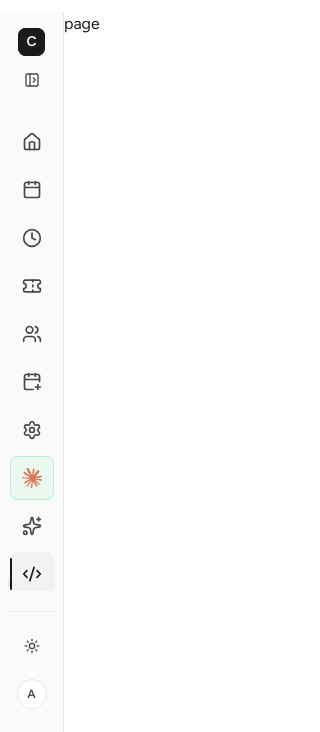
Scenario: AdminShell: the API and webhooks group › is a menu button on the collapsed rail: arrows move, Escape closes and hands focus back
The image size is (320, 732).
Click the button with test id "nav-api". click: (32, 574)
box: [10,552,54,596]
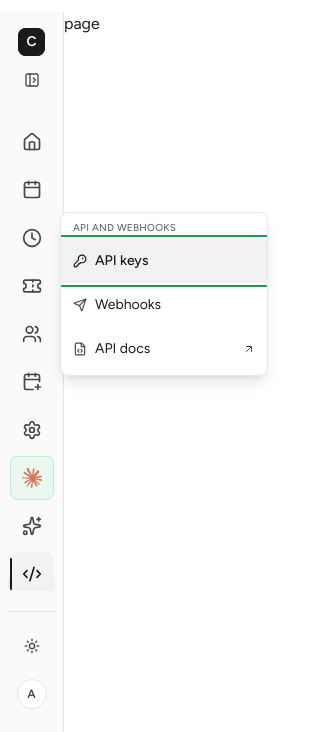
Press ArrowDown in the menu item "API keys", box [61,239,267,283]
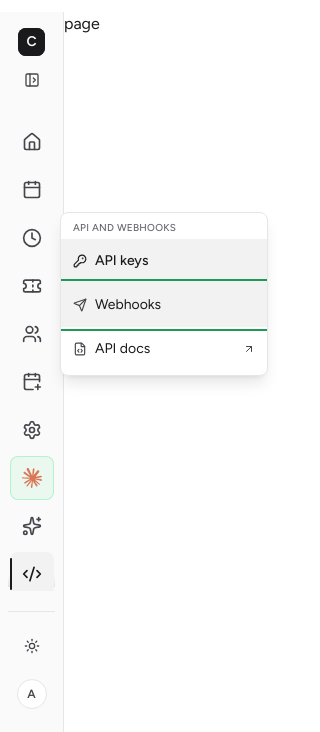
Press End in the menu item "Webhooks", box [61,283,267,327]
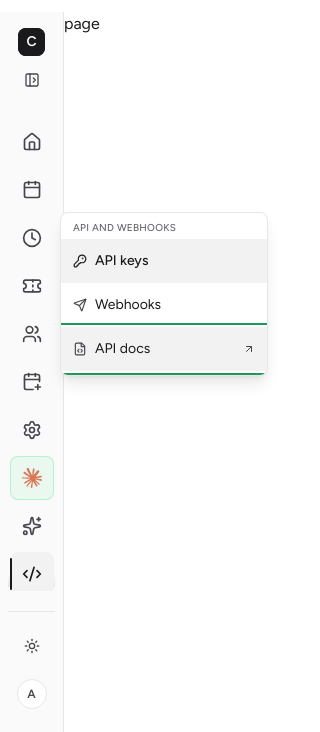
Press ArrowDown in the menu item "API docs", box [61,327,267,371]
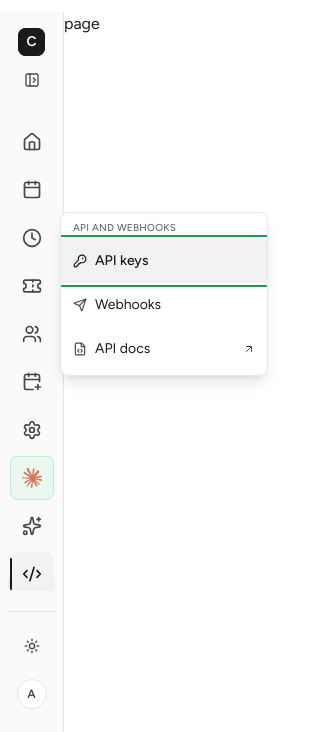
Press ArrowUp in the menu item "API keys", box [61,239,267,283]
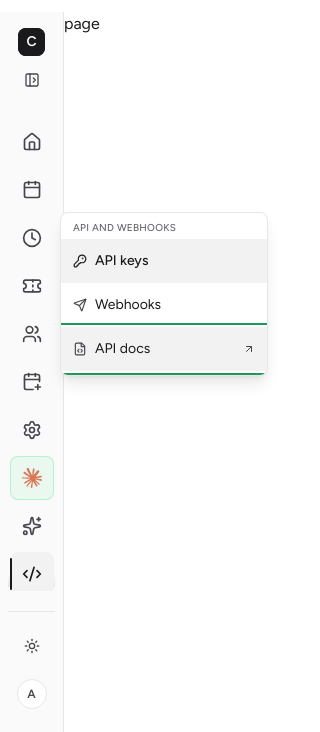
Press Escape in the menu item "API docs", box [61,327,267,371]
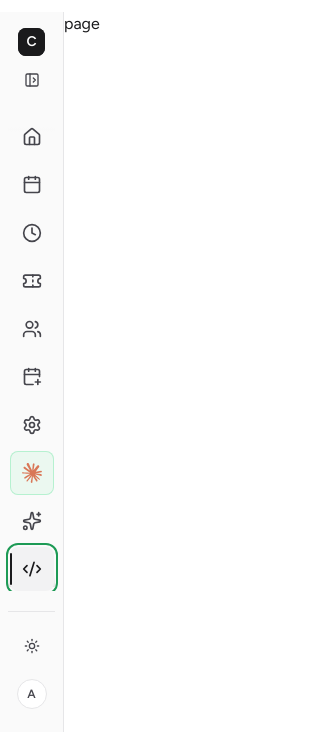
Now the menu with test id "nav-api-flyout" is gone
